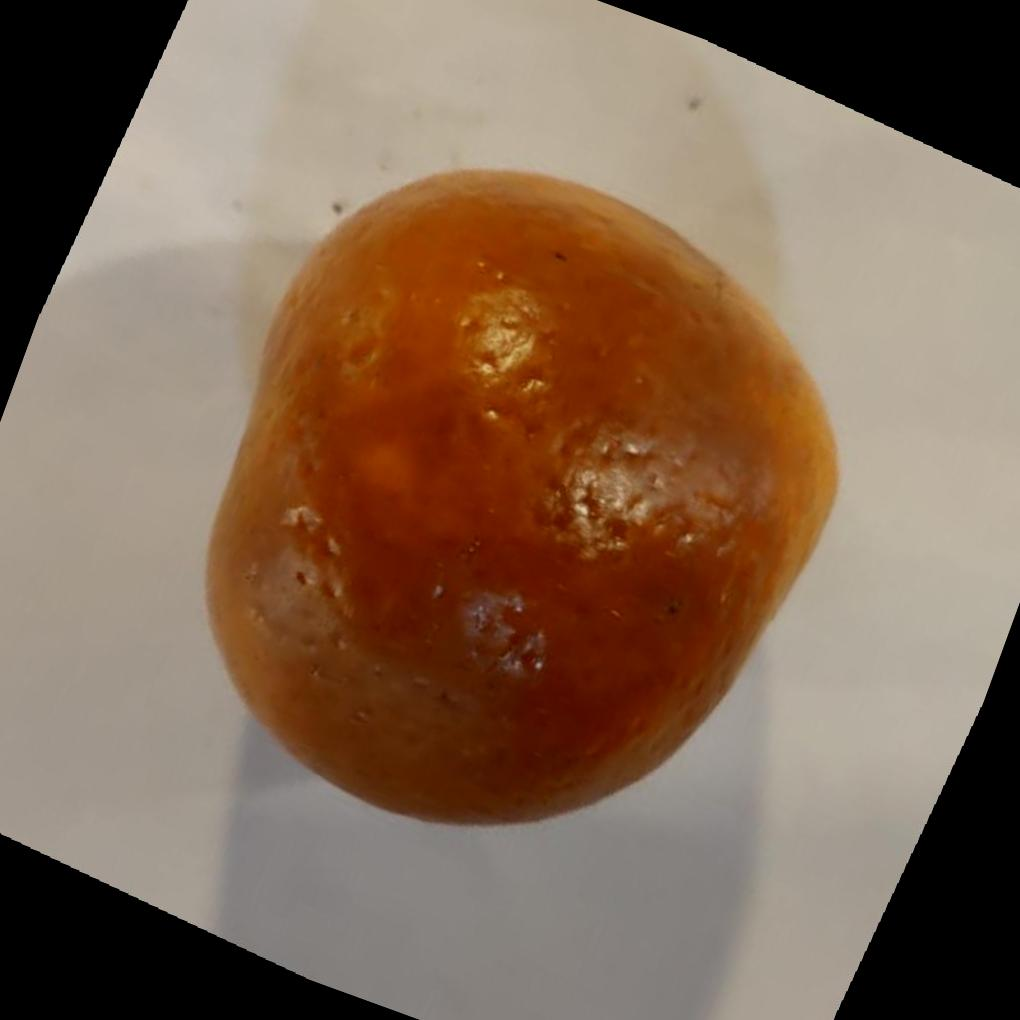FreshOrange: (204, 167, 842, 828)
